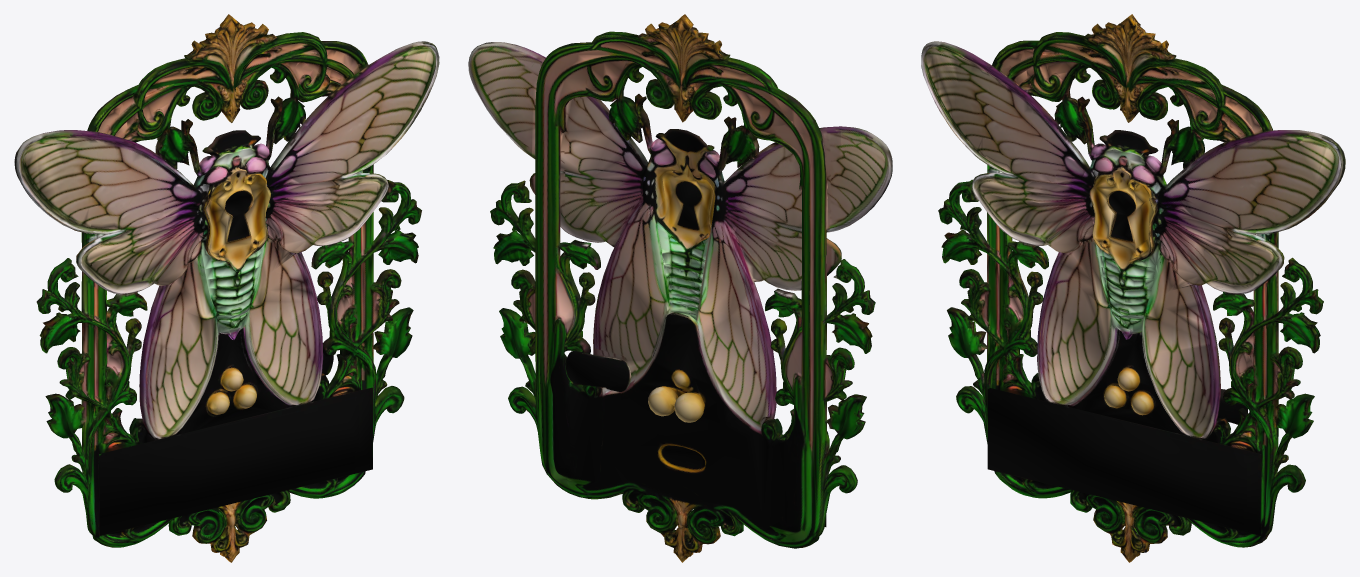
The model's file is nl_web.glb.
The picture shows the model from 3 angles, left to right: view 1: azimuth 30°, elevation 25°; view 2: azimuth 150°, elevation 25°; view 3: azimuth 330°, elevation 25°; orthographic projection.
Parts seen in each view (by area): view 1: material; view 2: material; view 3: material.
Part boxes in pixels (x1,y1,x2,y2): material: (14,14,439,562); material: (468,14,892,562); material: (921,14,1345,562).
Bounding box in the file's own units: 0.9204 × 1.13 × 0.0895.
Materials: 1 (1 with a texture image).
